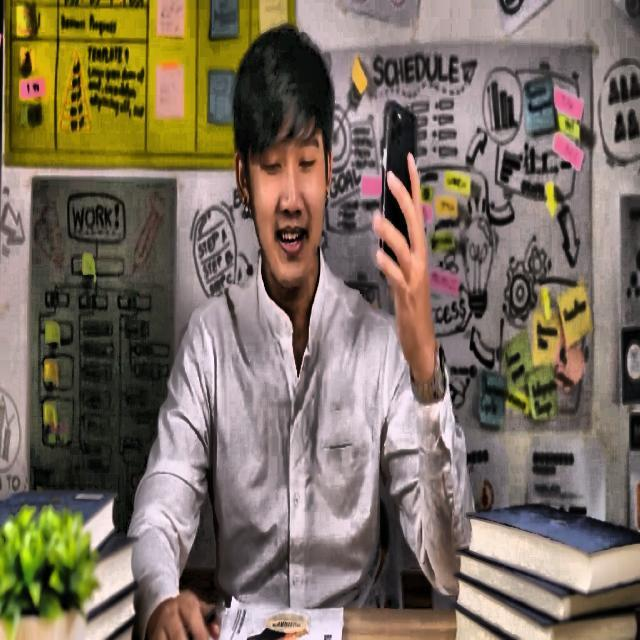Phone: (381, 98, 418, 281)
